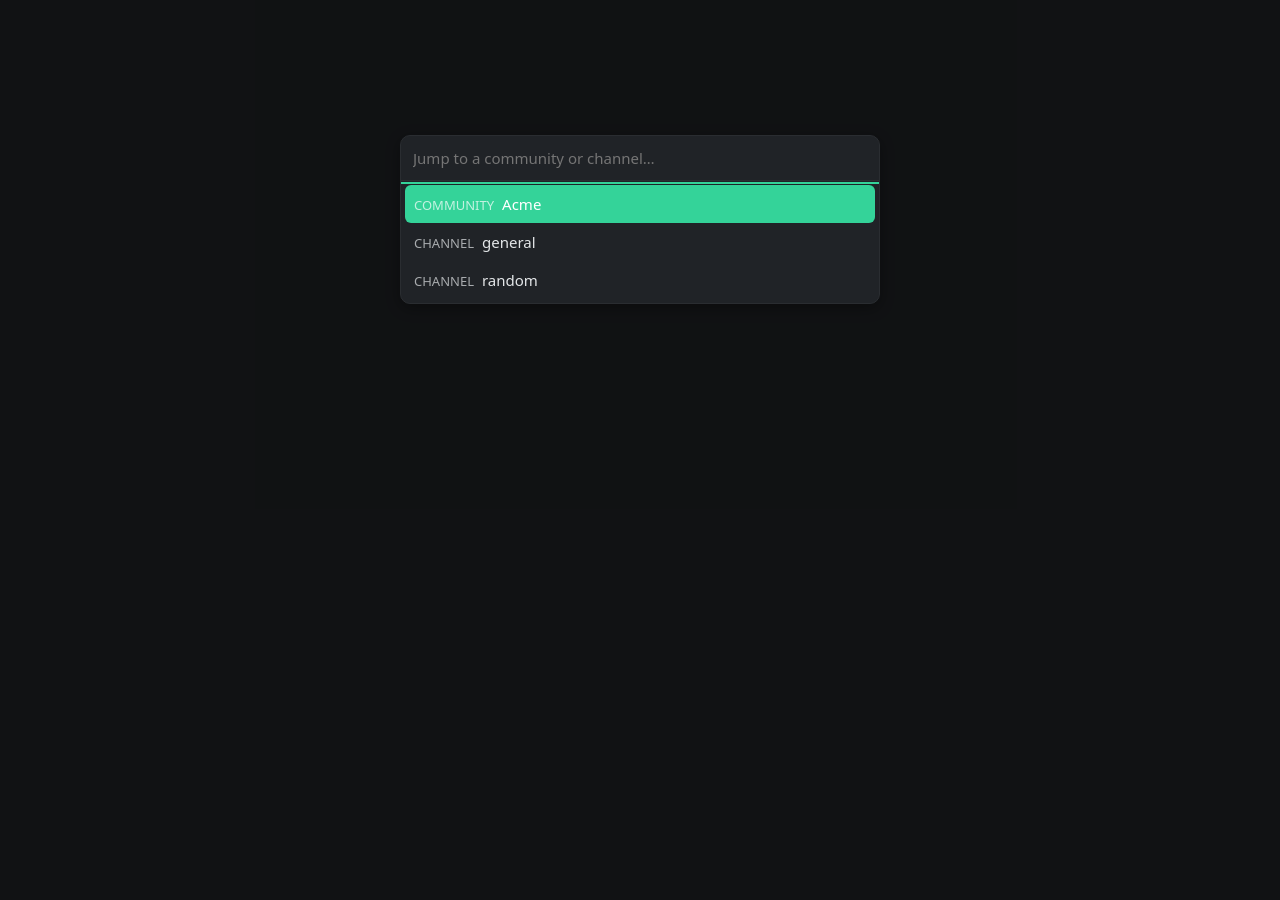
Test: QuickSwitcher › filters the list as the query changes, case-insensitively
Step 1. Type "GEN" into the field → (640, 158), box [401,136,879,181]
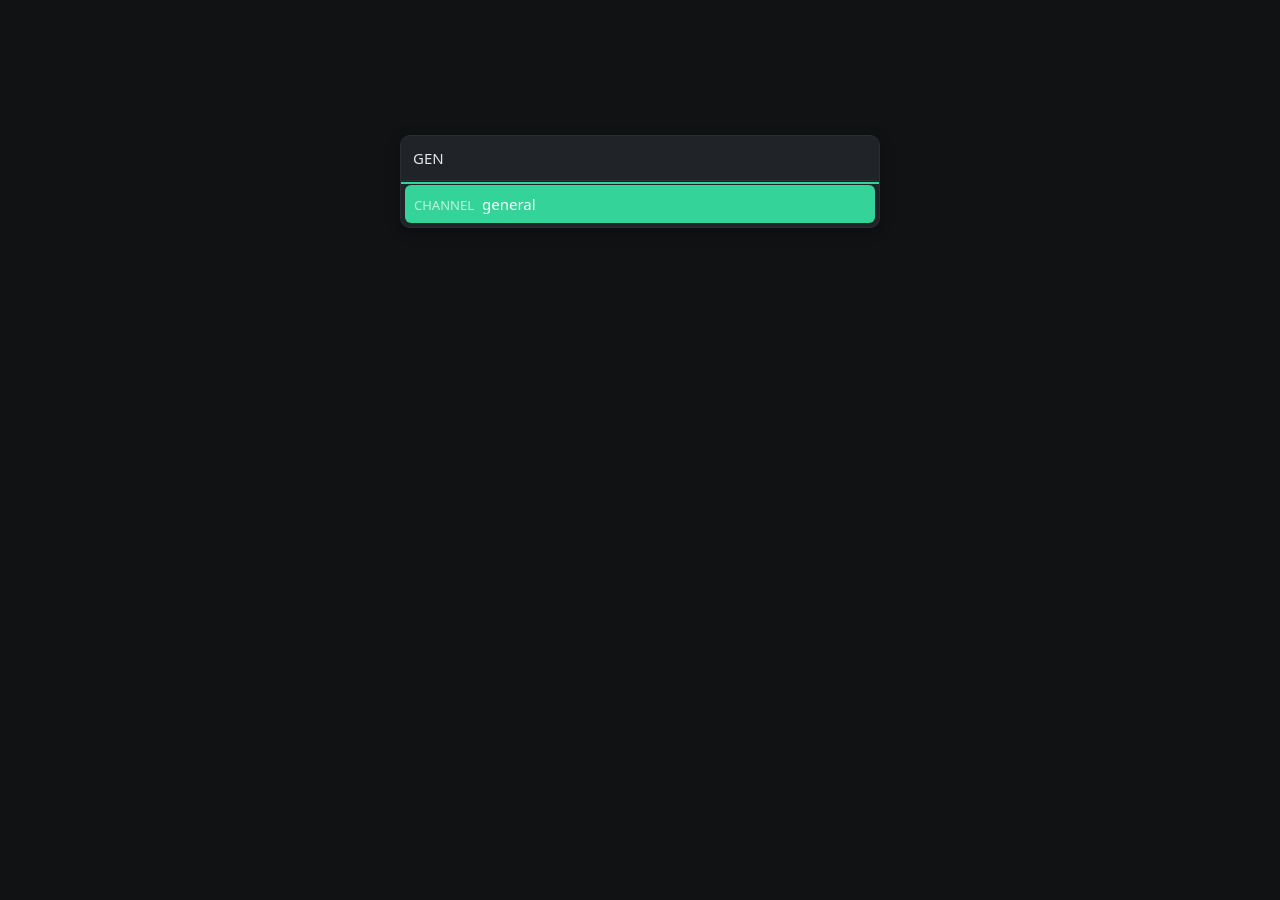
expect the button "Channel general" is shown: met, box [405,185,875,223]
expect the button "random" is gone: met
expect the button "Acme" is gone: met
